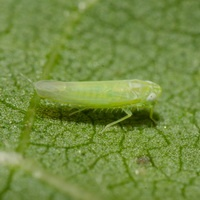insect: (33, 79, 161, 131)
